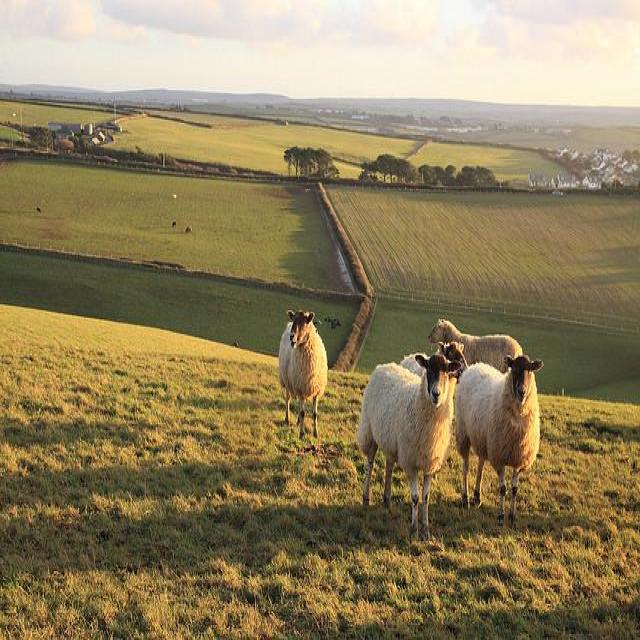Sheep: (356, 357, 463, 544), (453, 355, 545, 525), (278, 309, 329, 442), (427, 319, 524, 378), (401, 342, 468, 400)
